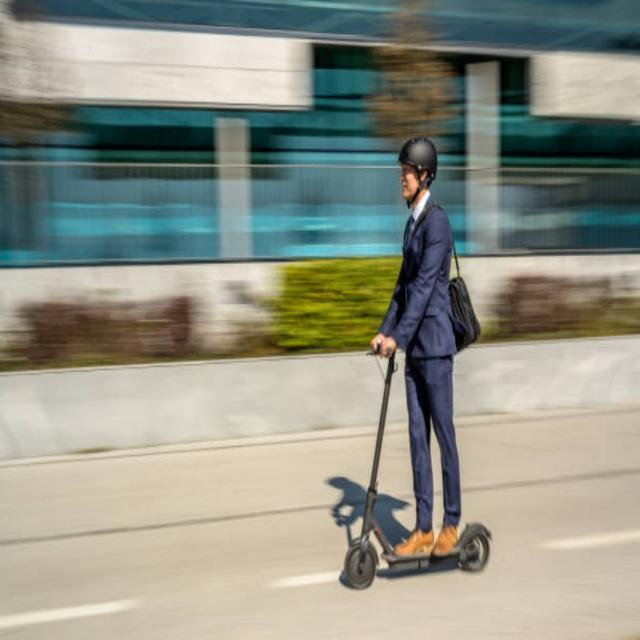Helmet: (389, 129, 444, 209)
